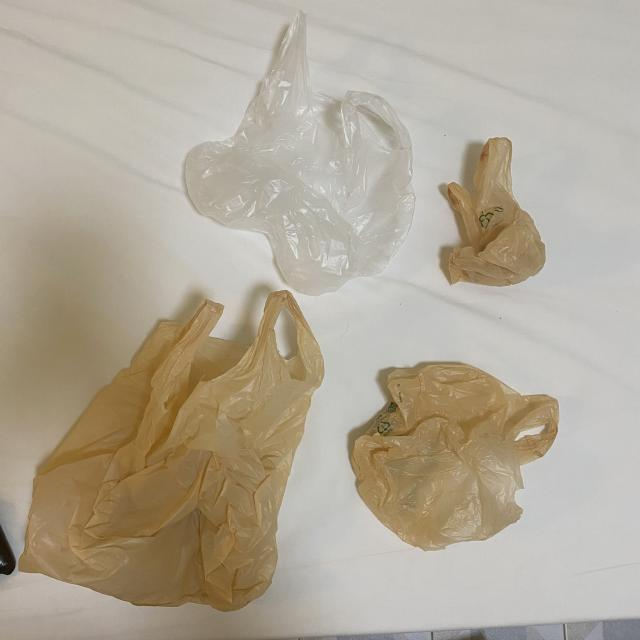Single-layer Plastic: (19, 290, 324, 611), (186, 18, 423, 292), (351, 364, 559, 550), (448, 138, 545, 286)
